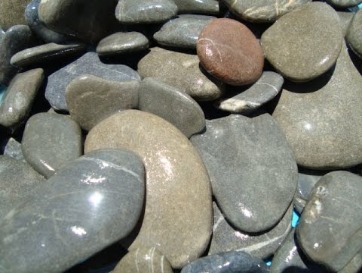stone: (81, 106, 216, 268), (1, 142, 153, 273), (196, 98, 304, 232), (260, 1, 345, 86), (294, 164, 362, 257), (62, 69, 146, 133), (197, 12, 268, 86), (1, 57, 53, 129), (86, 23, 162, 61)
